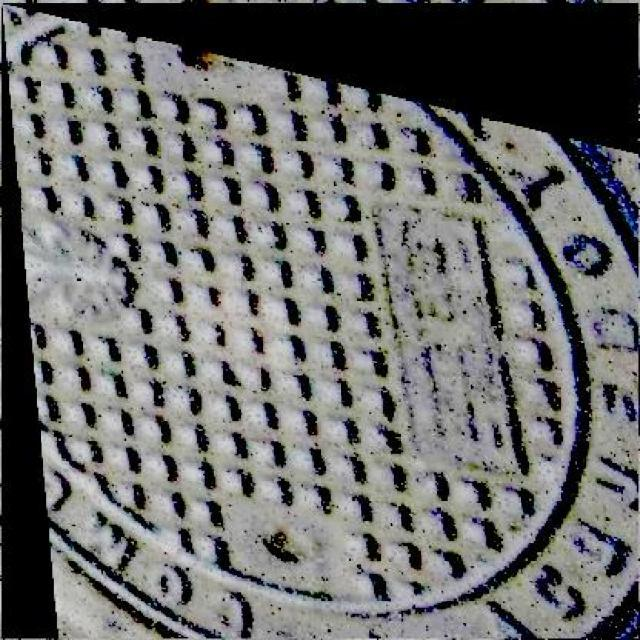Manhole: (1, 3, 638, 639)
